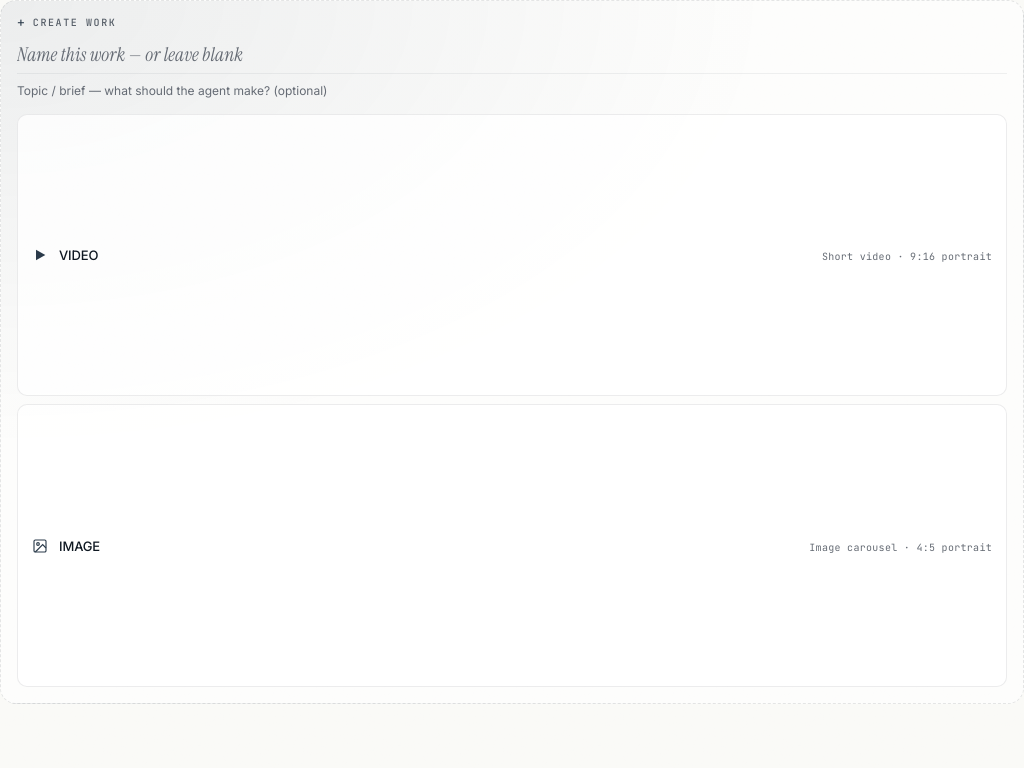
it: NewWorkCard mutation failure path (R21) › renders error alert when create-work API rejects
Click the text "VIDEO" at (79, 255), box x1=59 y1=247 x2=98 y2=263
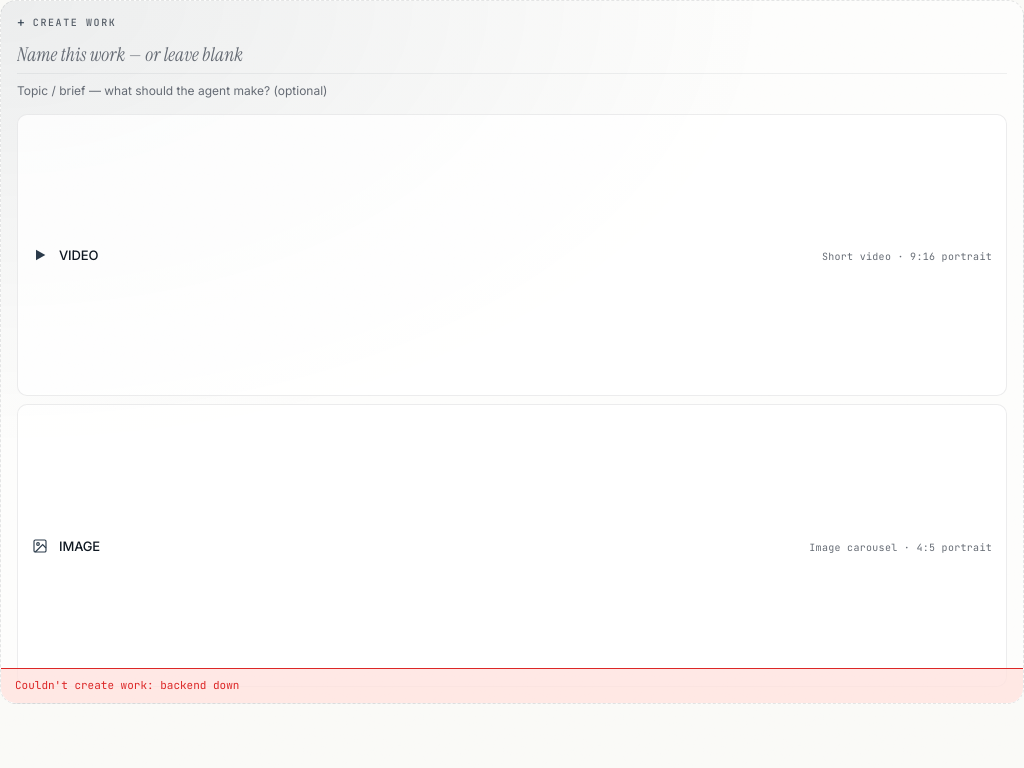
Expected: the message "Couldn't create work: backend down" is shown, x1=1 y1=668 x2=1023 y2=703
Expected: the message shows "backend down", x1=15 y1=678 x2=239 y2=692
